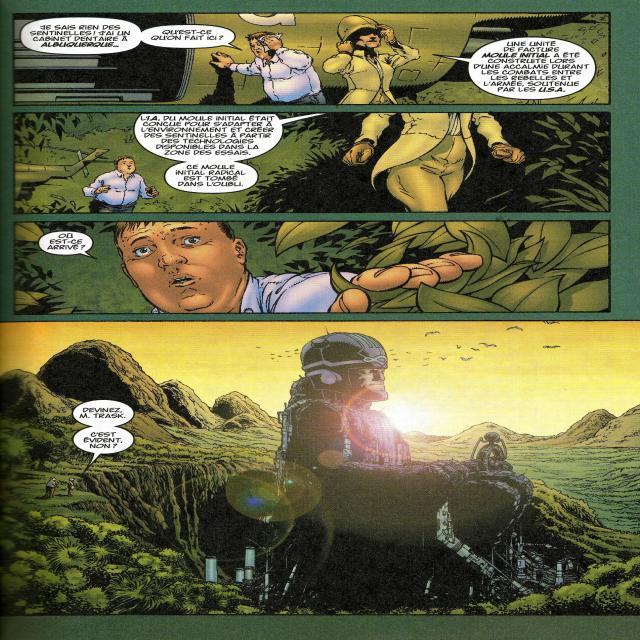comic_panel: (0, 320, 640, 616), (12, 112, 610, 214), (12, 11, 611, 105), (12, 221, 612, 313)
